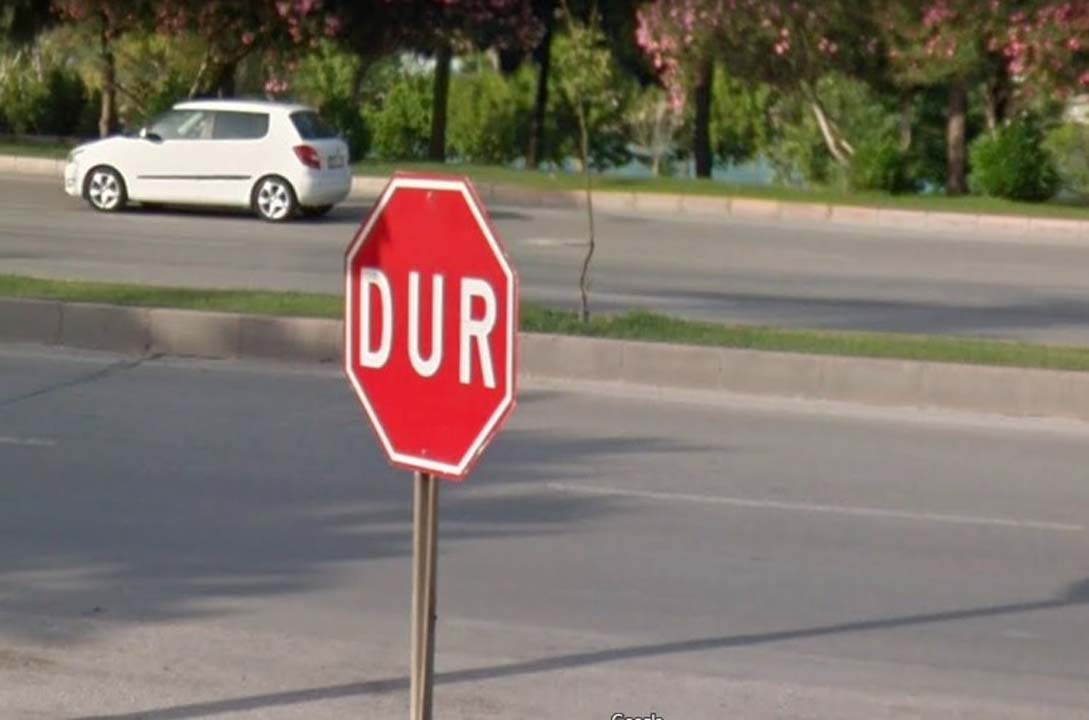arac_dur_isareti: (305, 131, 555, 547)
